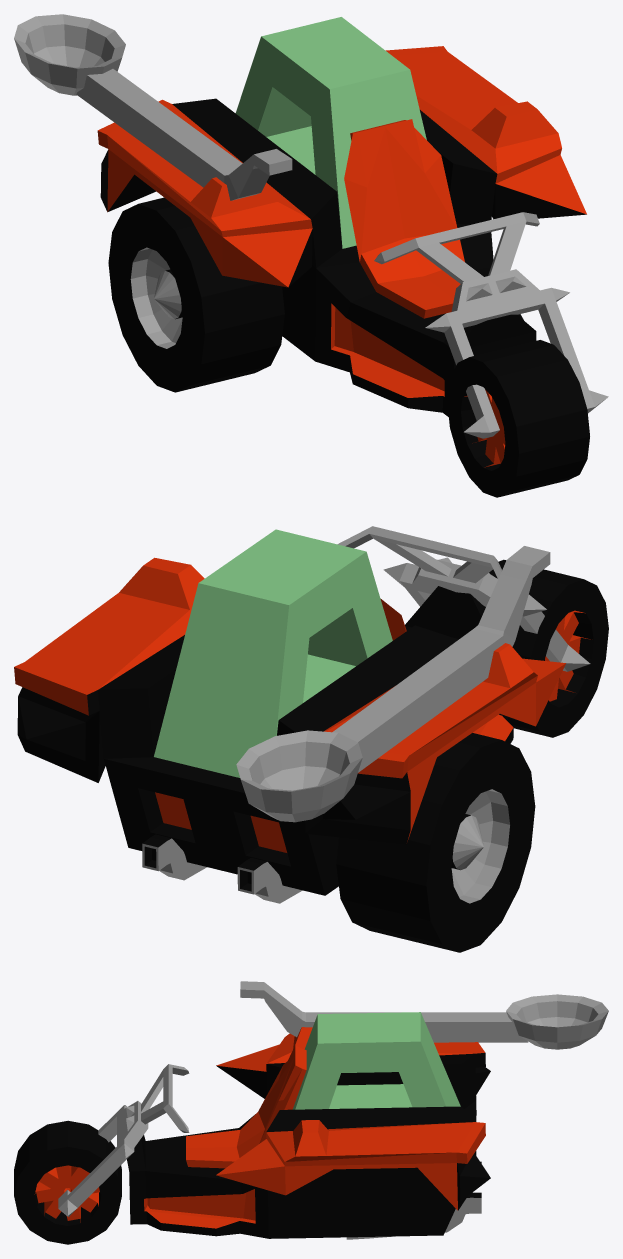
Rendered from Trike.fbx.
3 views of the same model, one above another, from view 1: azimuth 30°, elevation 25°; view 2: azimuth 150°, elevation 25°; view 3: azimuth 270°, elevation 25° (orthographic). The views are drawn at different scales.
Parts seen in each view (by area): view 1: Chassis, Hinterraeder, Vorderrad, Catapult; view 2: Chassis, Hinterraeder, Catapult, Vorderrad; view 3: Chassis, Vorderrad, Catapult.
Part boxes in pixels (x1,y1,x2,y2): Chassis: (97, 17, 608, 438); Hinterraeder: (108, 197, 284, 392); Vorderrad: (447, 340, 589, 497); Catapult: (14, 14, 292, 200); Chassis: (14, 526, 590, 903); Hinterraeder: (336, 733, 535, 952); Catapult: (236, 546, 550, 822); Vorderrad: (489, 559, 608, 737); Chassis: (58, 1012, 490, 1239); Vorderrad: (14, 1120, 121, 1244); Catapult: (240, 981, 608, 1049).
Bounding box in the file's own units: 392 × 304 × 748.
